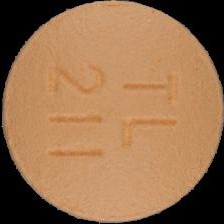59746-211: (0, 0, 224, 224)
